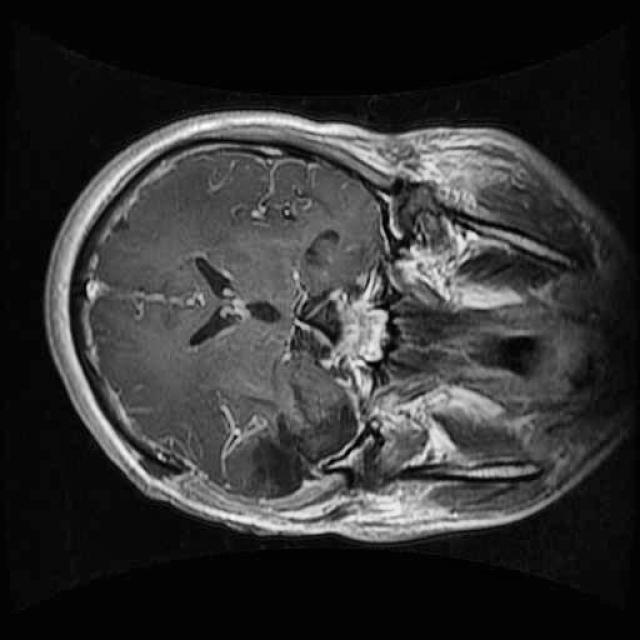Tumor: (209, 383, 367, 518)
